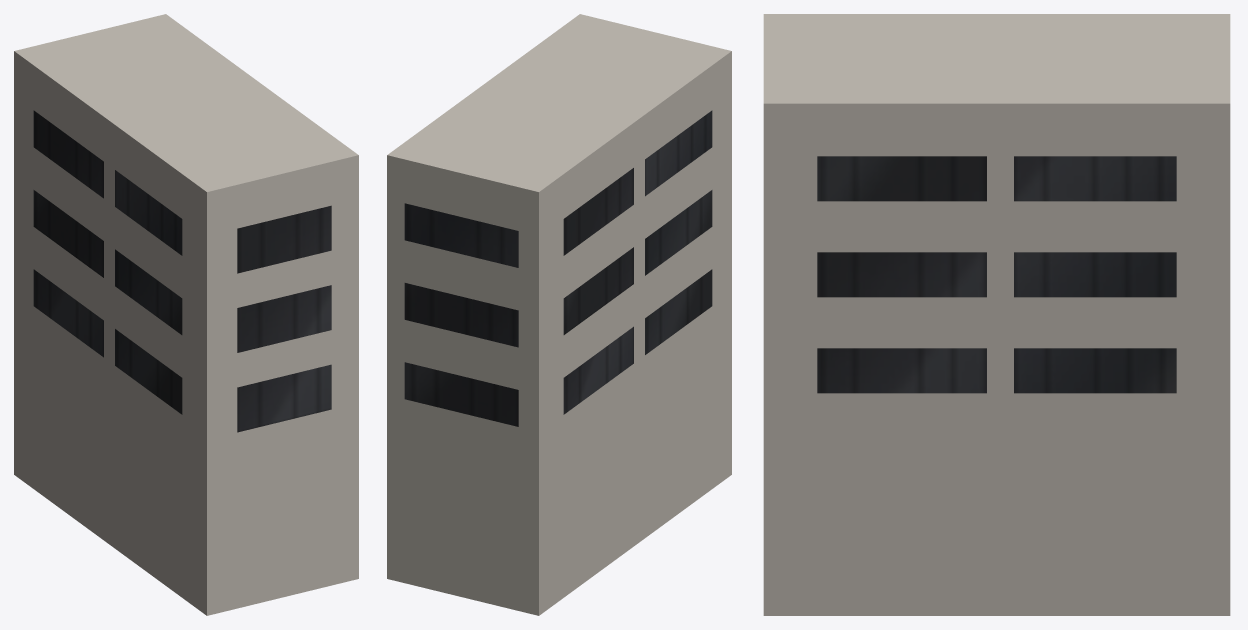
File: Bld_Building_E_low.fbx
3 views of the same model, side by side, from view 1: azimuth 30°, elevation 25°; view 2: azimuth 150°, elevation 25°; view 3: azimuth 270°, elevation 25° (orthographic). The views are drawn at different scales.
Parts seen in each view (by area): view 1: Bld_Building_E_low; view 2: Bld_Building_E_low; view 3: Bld_Building_E_low.
Part boxes in pixels (x1,y1,x2,y2): Bld_Building_E_low: (14, 14, 358, 615); Bld_Building_E_low: (387, 14, 731, 615); Bld_Building_E_low: (763, 14, 1230, 615).
Bounding box in the file's own units: 620 × 1600 × 1340.
